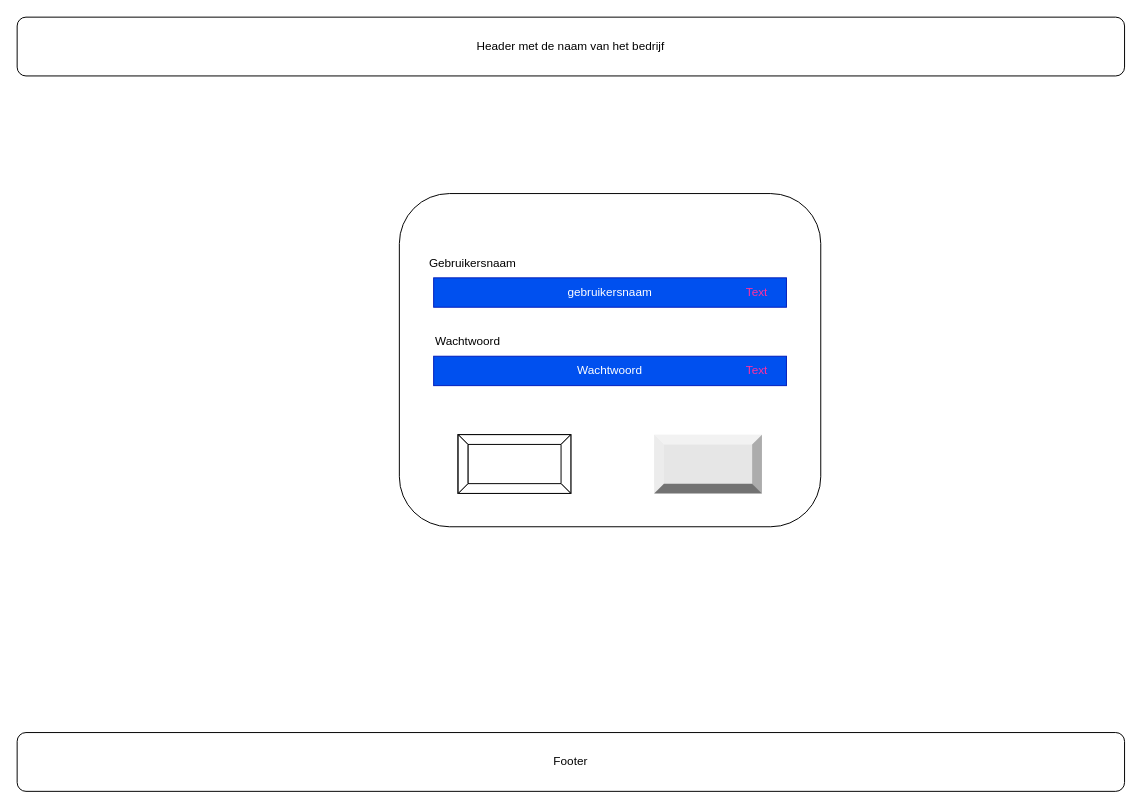
Image size: 1142x809. Some labels were removed from this diagram. Each missing label, with the centre of its shape:
inloggen: (x=707, y=463)
Terug naar home: (x=514, y=463)
